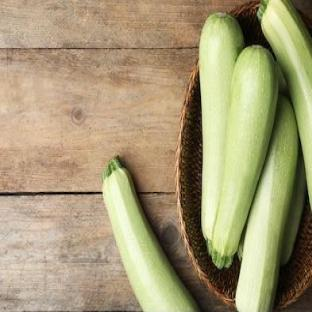Zucchini: (103, 158, 199, 310), (212, 46, 277, 268), (236, 96, 298, 311), (199, 14, 243, 245), (282, 149, 306, 265), (278, 65, 288, 95)
